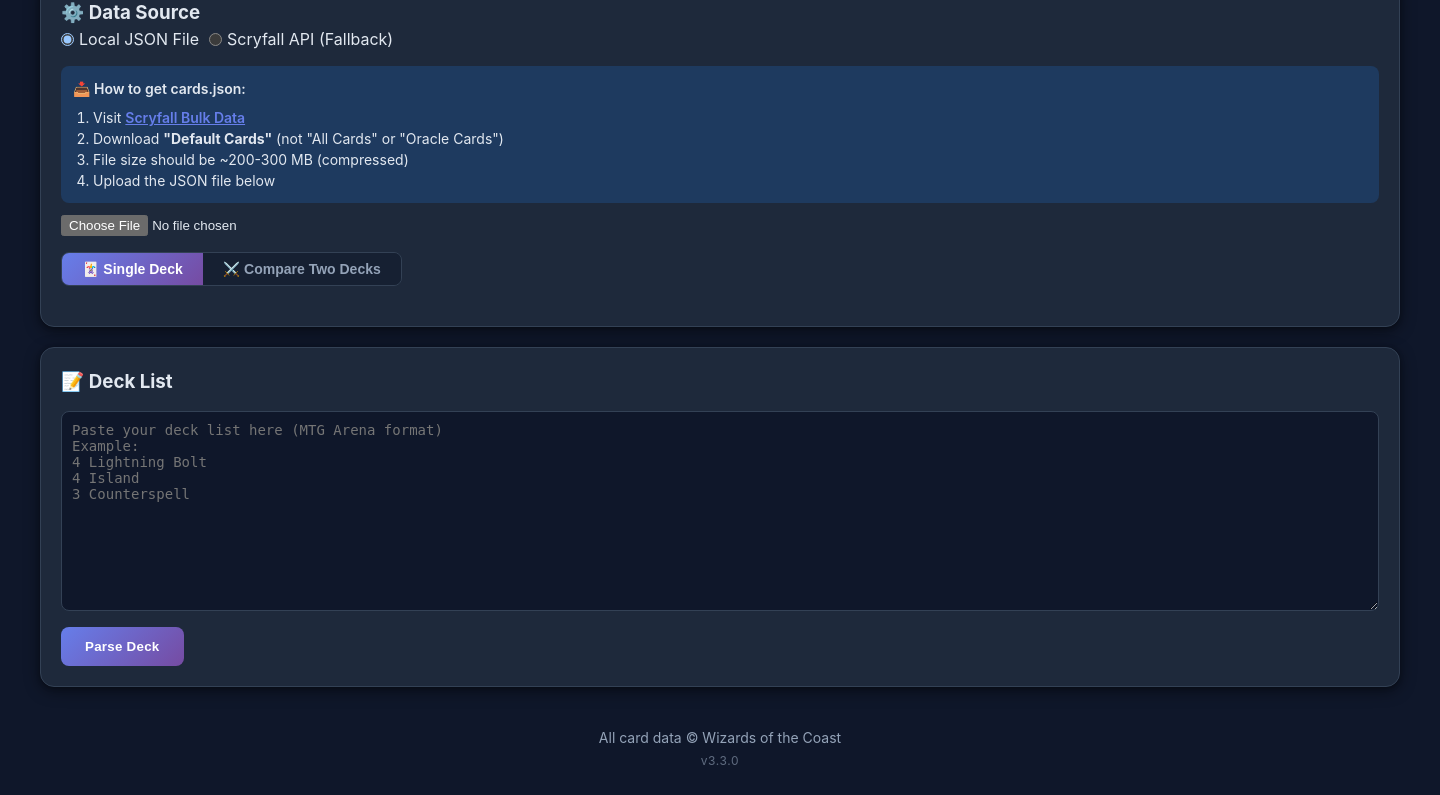
Test: Parse Deck flow › shows the error banner when parseDeckList returns null
(page scrolled)
Click the button "Parse Deck" at (122, 647), box [61,627,184,666]
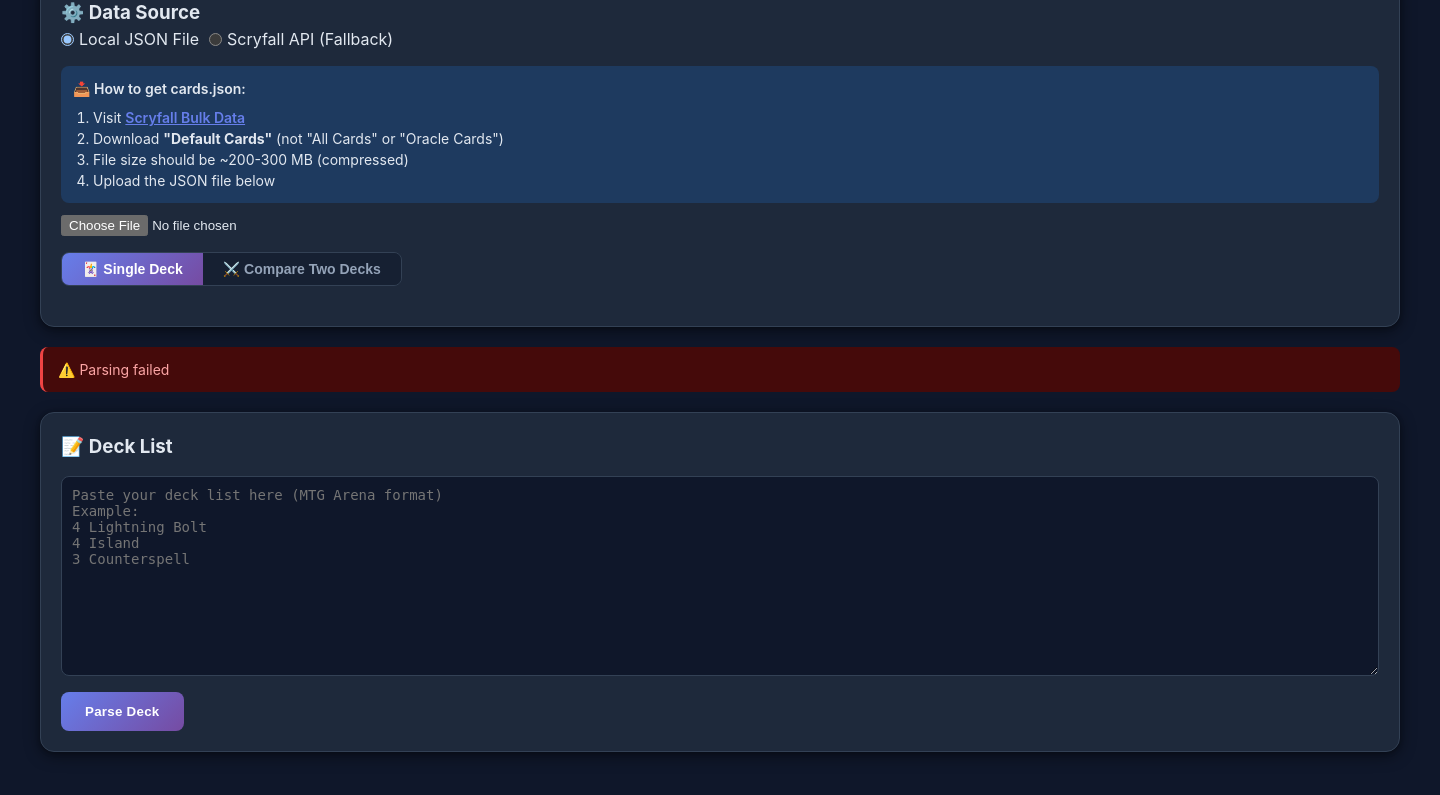
Result: the text "⚠️ Parsing failed" is shown at [40,347,1400,392]
